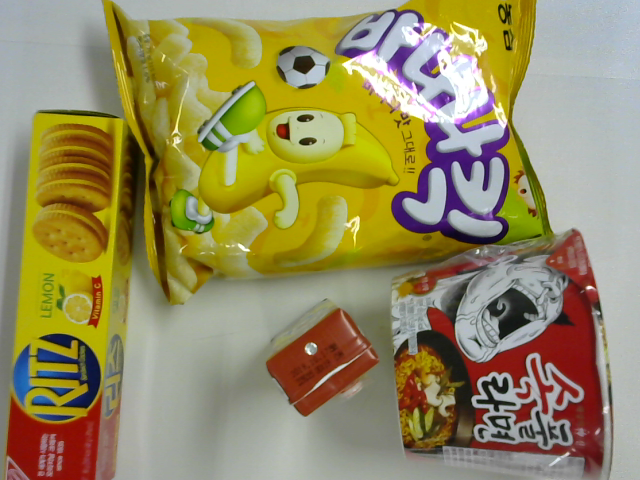Banana_Kick: (110, 17, 565, 246)
Choco_E_Mong: (280, 311, 373, 411)
Hejangpul: (394, 243, 614, 456)
Ritz_Remon_96g: (8, 105, 142, 480)
